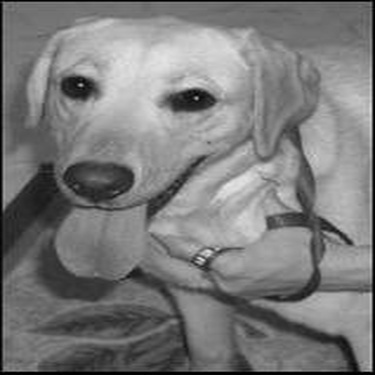dog: (15, 4, 368, 371)
